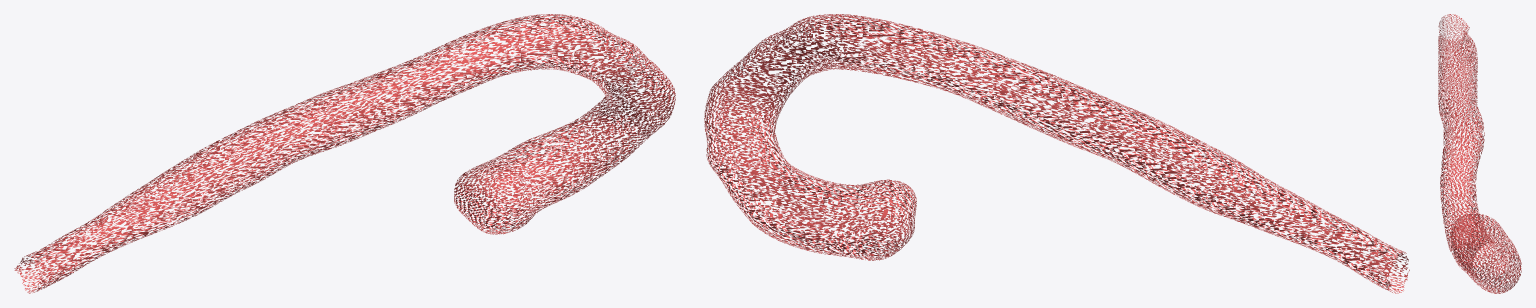
File: aorta.glb
3 views of the same model, side by side, from view 1: azimuth 30°, elevation 25°; view 2: azimuth 150°, elevation 25°; view 3: azimuth 270°, elevation 25° (orthographic). The views are drawn at different scales.
Bounding box in the file's own units: 261 × 82.99 × 38.77.
